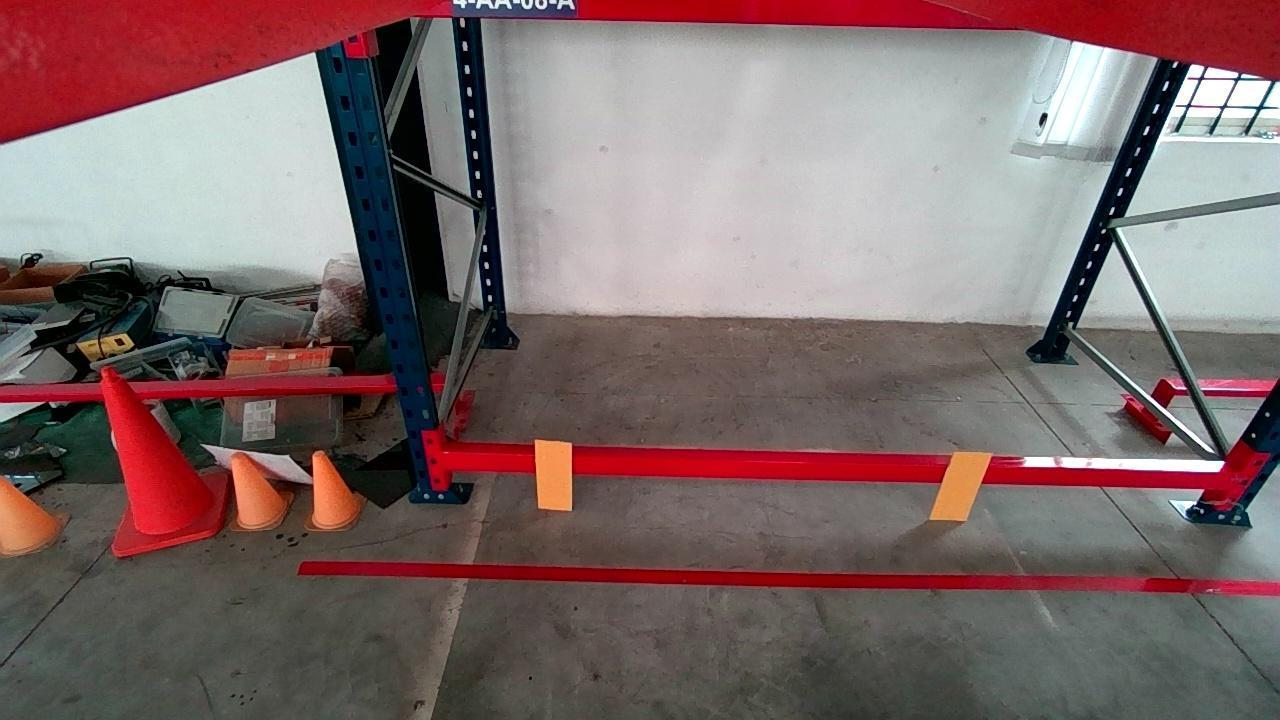h_rack: (443, 449, 1237, 490), (414, 0, 1002, 27)
orange_strip: (926, 450, 998, 522), (531, 442, 575, 510)
red_line: (299, 557, 1280, 595)
